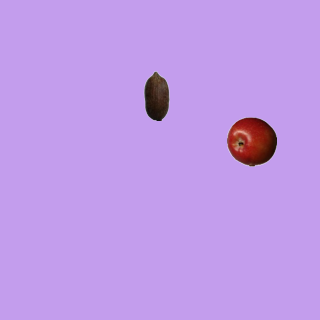Apple Braeburn: (226, 116, 276, 166)
Nut Pecan: (131, 70, 181, 120)
